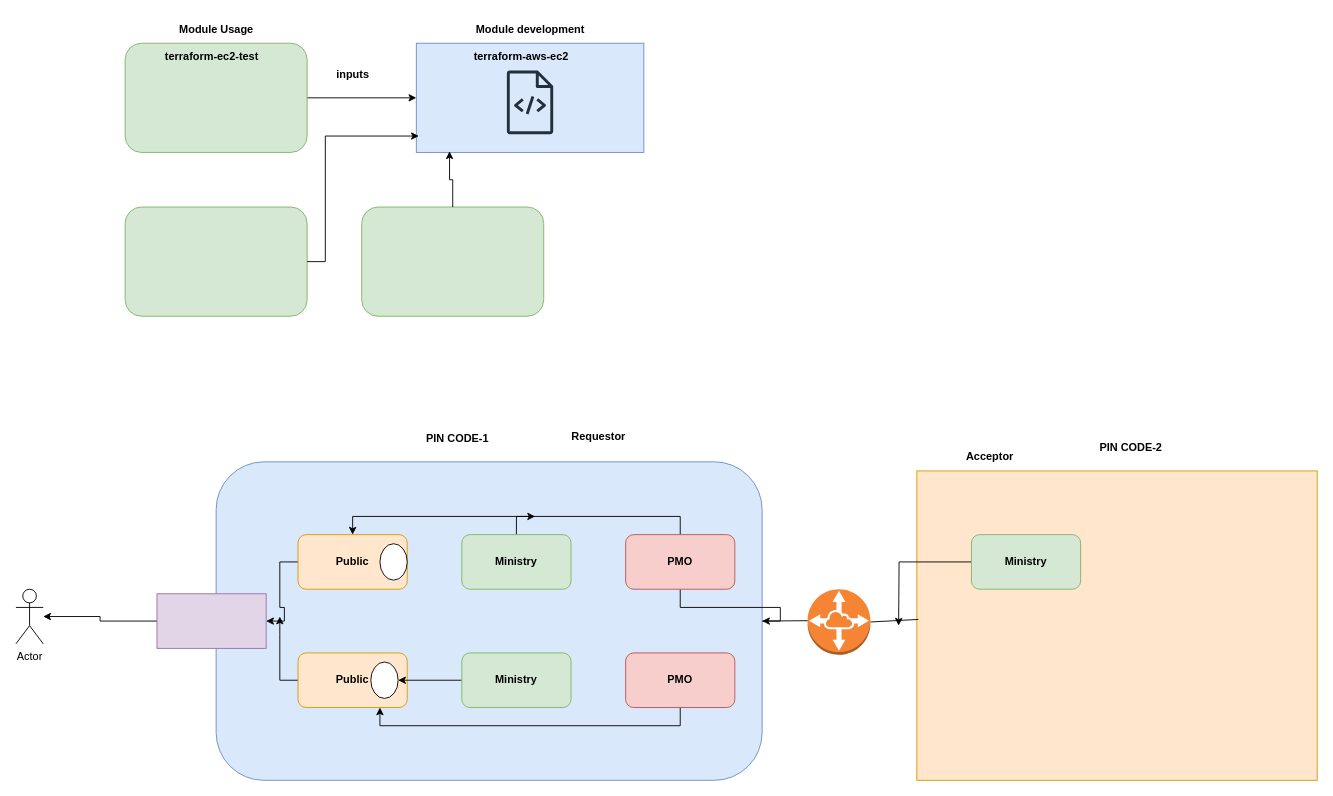
Some shapes in this 1333 by 796 pixel diagram are drawn without their labels. Each missing label, with the centre of its shape:
"Arch" goes at (x=211, y=620).
"NAT" goes at (x=384, y=679).
